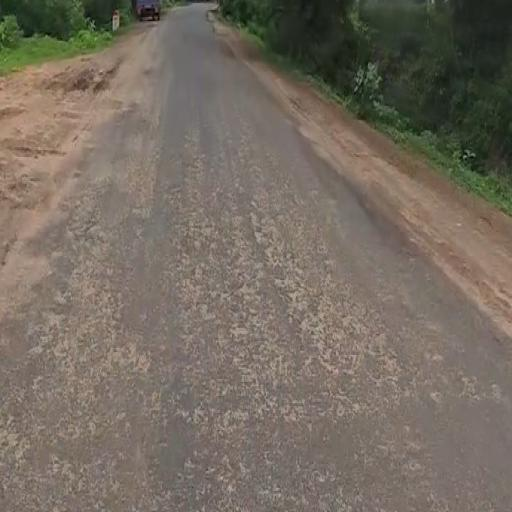ravelling: (45, 130, 390, 464)
